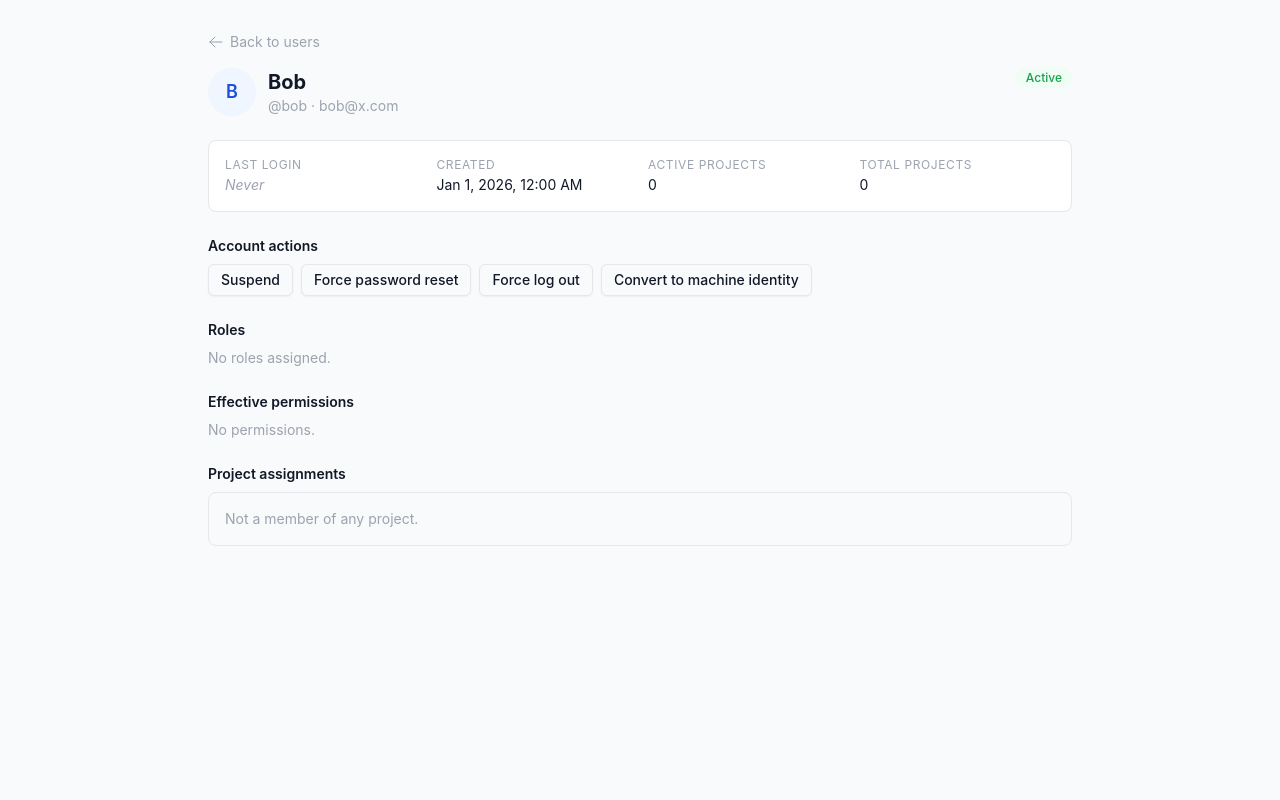
Test: UserDetailPage — convert to machine identity › keeps Convert disabled until a project is selected
Click the button "Convert to machine identity" at x=706, y=280, box x1=601 y1=264 x2=812 y2=296
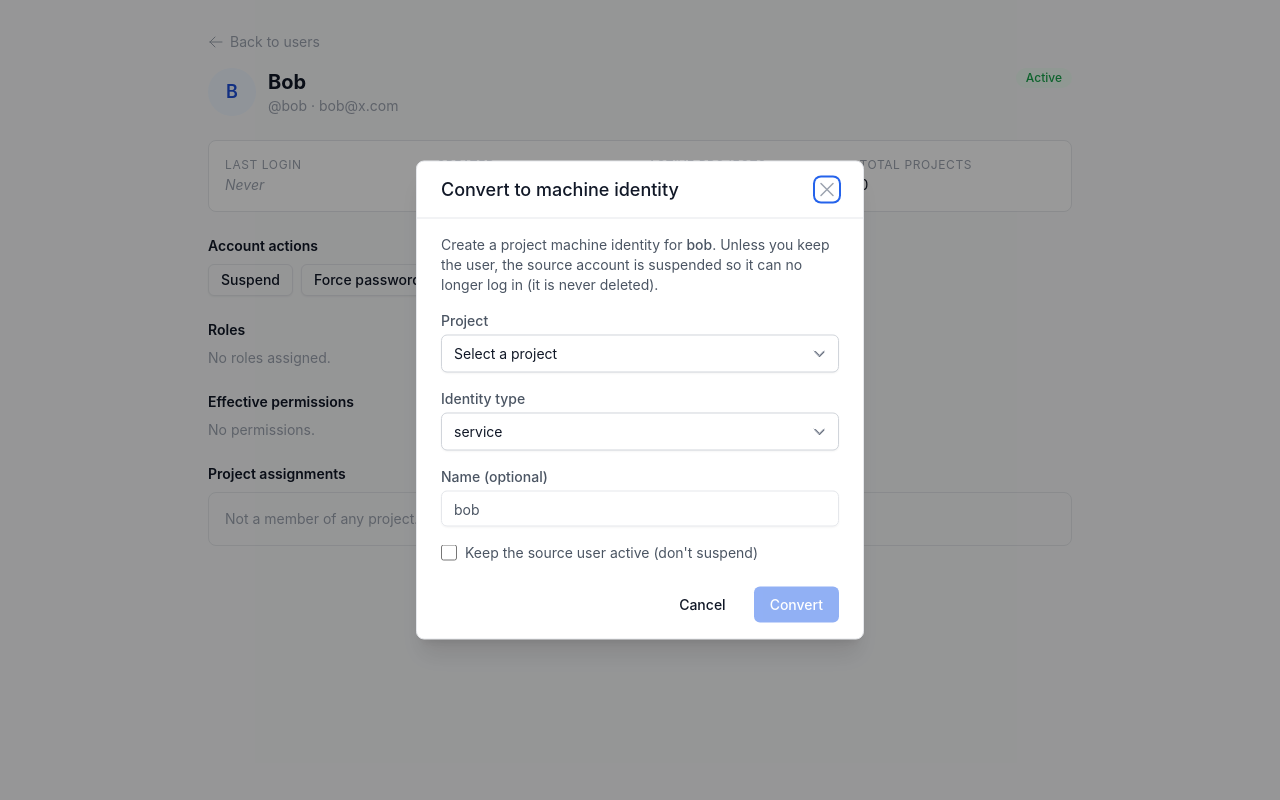
Now the button "Convert" is disabled, box x1=754 y1=586 x2=839 y2=622
